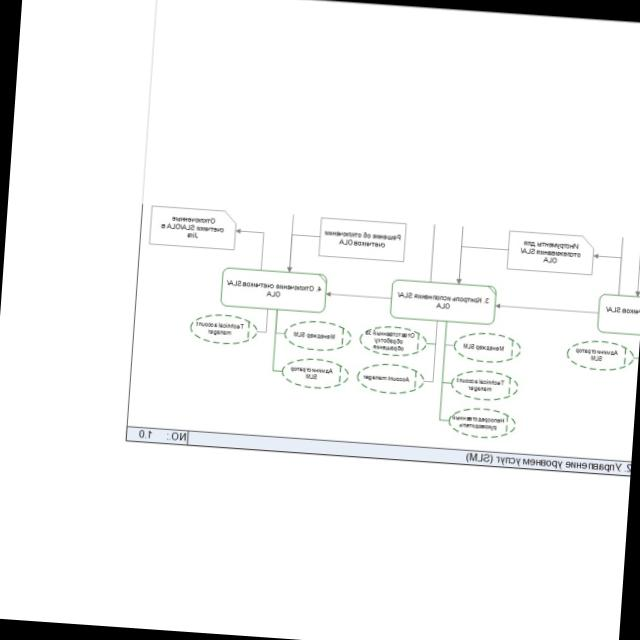arrow: (496, 302, 598, 316), (326, 289, 391, 302)
rectangle: (389, 278, 497, 325), (219, 266, 327, 313)
